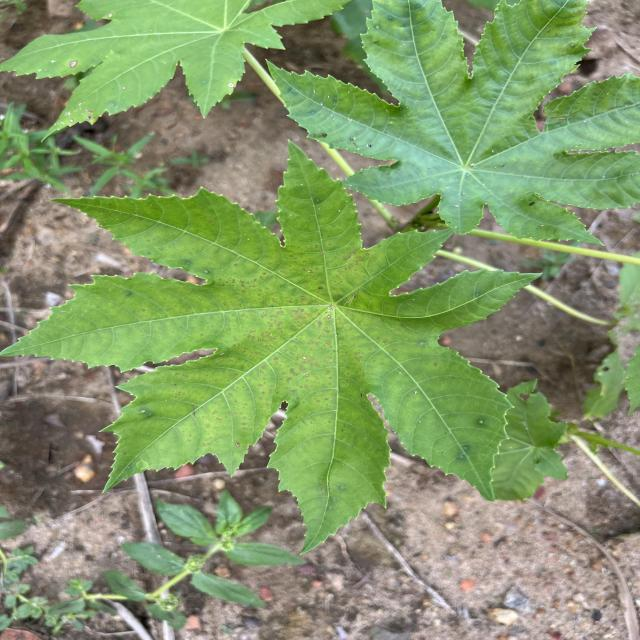Ricinus communis linn: (0, 133, 549, 561), (262, 0, 640, 250)
